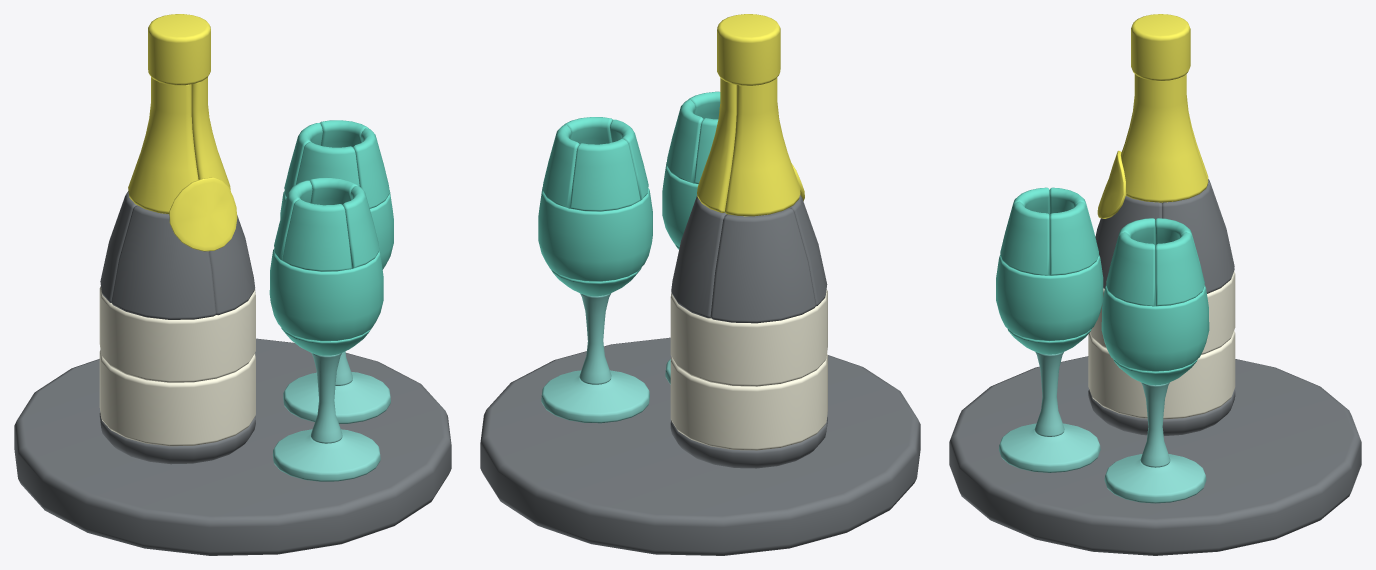
The picture shows the model from 3 angles, left to right: view 1: azimuth 30°, elevation 25°; view 2: azimuth 150°, elevation 25°; view 3: azimuth 270°, elevation 25°; orthographic projection. The views are drawn at different scales.
Visible parts, largest first — view 1: pCylinder3, polySurface56, polySurface41, polySurface58, polySurface789, polySurface43, polySurface794, polySurface23, polySurface788, polySurface795, polySurface14, polySurface59 (+13 smaller); view 2: pCylinder3, polySurface56, polySurface41, polySurface39, polySurface55, polySurface43, polySurface14, polySurface23, polySurface780, polySurface60, polySurface61, polySurface33 (+10 smaller); view 3: pCylinder3, polySurface61, polySurface55, polySurface789, polySurface56, polySurface14, polySurface794, polySurface23, polySurface60, polySurface785, polySurface779, polySurface781 (+13 smaller).
Part boxes in pixels (box(x1,y1,x2,y2)): pCylinder3: box(14, 338, 451, 555); polySurface56: box(99, 350, 255, 446); polySurface41: box(99, 286, 255, 382); polySurface58: box(111, 205, 215, 319); polySurface789: box(269, 248, 383, 341); polySurface43: box(128, 77, 198, 214); polySurface794: box(272, 429, 380, 481); polySurface23: box(148, 14, 210, 85); polySurface788: box(281, 199, 352, 271); polySurface795: box(169, 177, 237, 251); polySurface14: box(283, 372, 390, 423); polySurface59: box(209, 215, 255, 315); pCylinder3: box(480, 337, 920, 555); polySurface56: box(670, 354, 827, 450); polySurface41: box(670, 289, 827, 386); polySurface39: box(710, 208, 815, 323); polySurface55: box(538, 187, 652, 281); polySurface43: box(725, 77, 800, 216); polySurface14: box(541, 370, 649, 423); polySurface23: box(717, 14, 780, 85); polySurface780: box(570, 138, 640, 211); polySurface60: box(671, 195, 726, 318); polySurface61: box(697, 78, 736, 212); polySurface33: box(670, 416, 827, 468); pCylinder3: box(949, 356, 1361, 555); polySurface61: box(1121, 74, 1208, 202); polySurface55: box(1101, 285, 1209, 371); polySurface789: box(996, 255, 1103, 341); polySurface56: box(1088, 331, 1235, 419); polySurface14: box(1104, 454, 1206, 503); polySurface794: box(998, 423, 1100, 472); polySurface23: box(1131, 14, 1190, 80); polySurface60: box(1162, 184, 1234, 293); polySurface785: box(1049, 201, 1098, 275); polySurface779: box(1155, 232, 1204, 306); polySurface781: box(1106, 232, 1155, 306).
Size of the model in its own units: 502 by 569 by 502.
